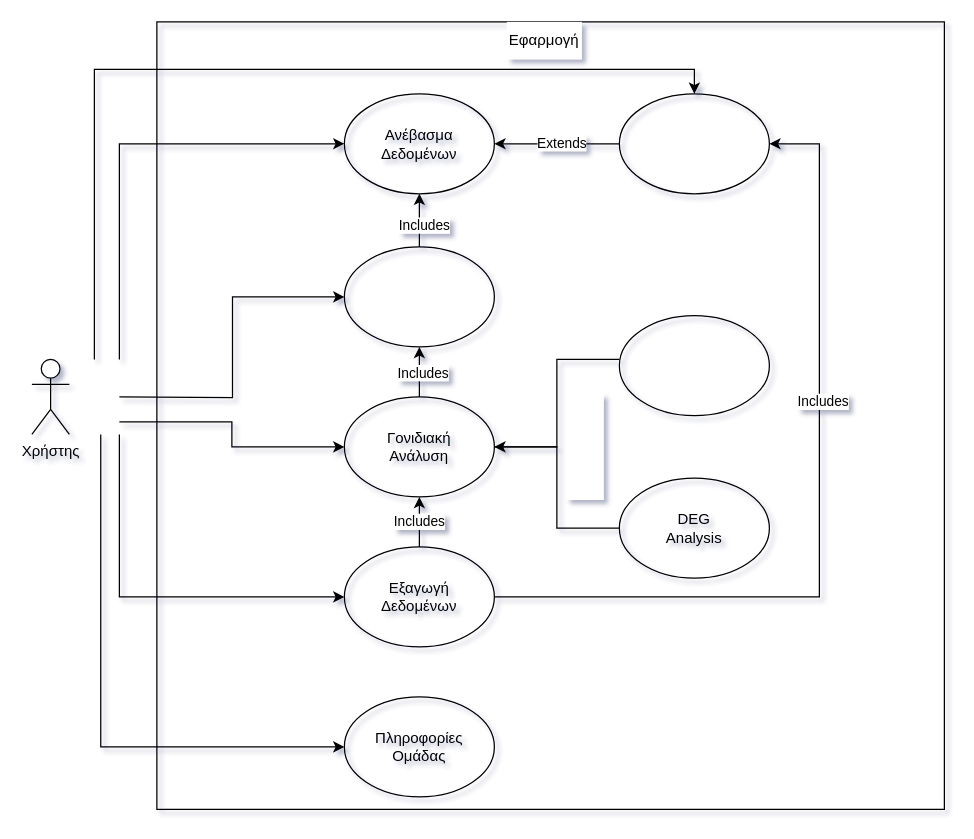
This 974x839 diagram has some shape labels left out. Here are the shapes that lost their labels. From the top down, the centre of each, then its label:
At [693,143]: "Προ-Επεξεργασια Δεδομένων".
At [418,296]: "Ανάλυση Δεδομένων".
At [693,365]: "Marker Genes Analysis".
At [584,446]: "Generalization".
